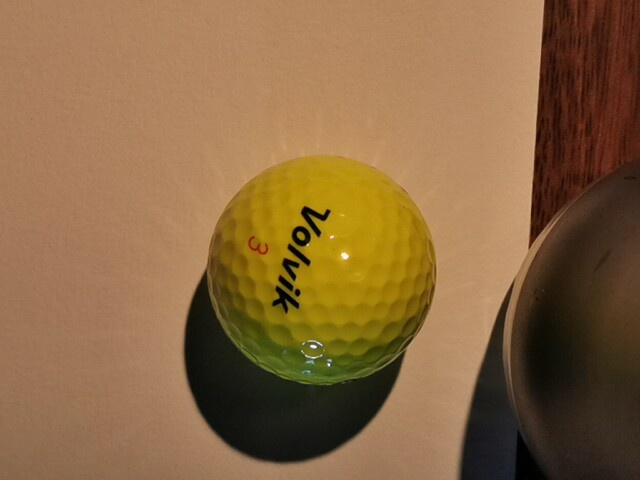Ball: (205, 154, 437, 386)
Volvik: (272, 206, 331, 314)
